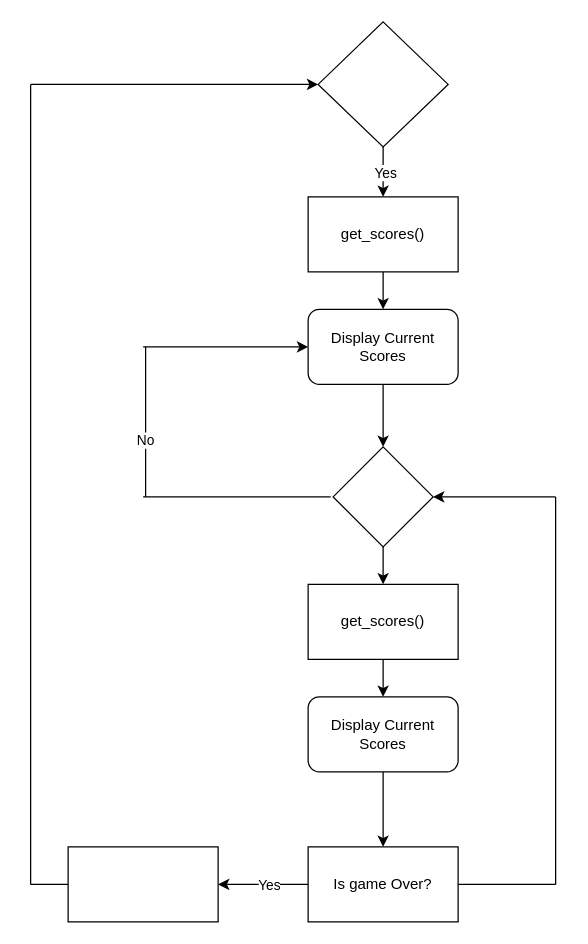
Image size: 588x944. Some labels were removed from this diagram. The centre of each missing label's shape, as x and y in pixels:
Display Final Scores and Declare Winner: the point at 142,884
Hit?: the point at 382,496
Play Black Jack?: the point at 382,84
